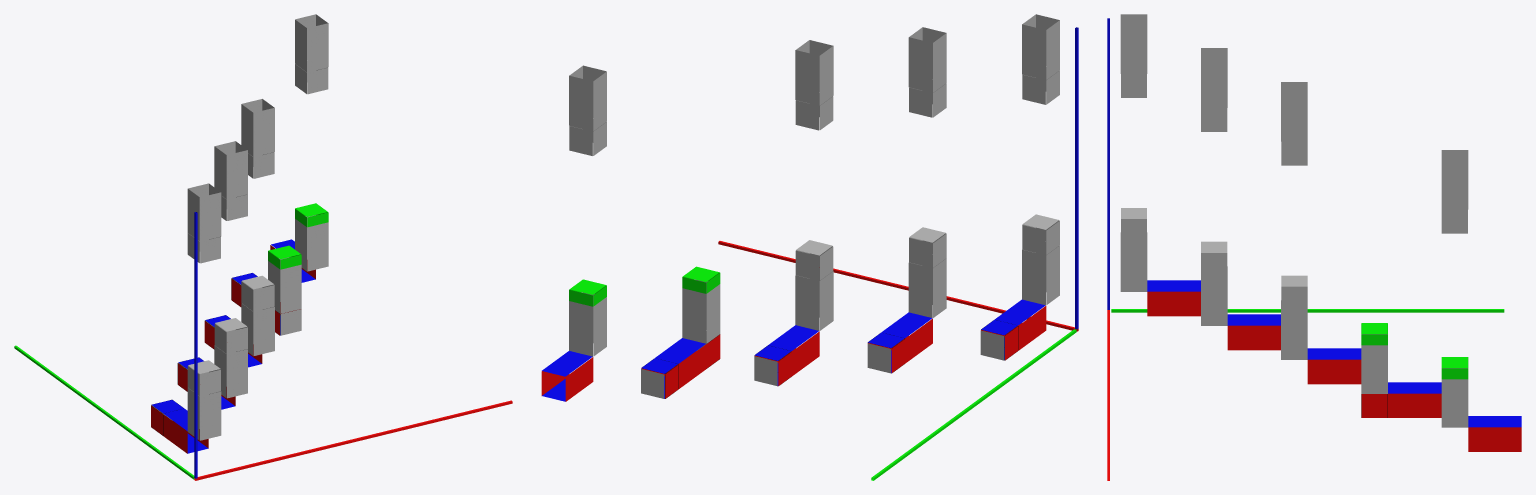
3 views of the same model, side by side, from view 1: azimuth 30°, elevation 25°; view 2: azimuth 150°, elevation 25°; view 3: azimuth 270°, elevation 25° (orthographic). The views are drawn at different scales.
Visible parts, largest first — view 1: edgeK(4, 4, 0):-J, edgeK(0, 0, 0):-J, edgeK(2, 2, 3):-J, edgeK(4, 4, 3):-J, edgeK(3, 3, 0):-J, edgeK(0, 0, 3):-J, edgeK(2, 2, 0):-J, edgeK(1, 1, 0):-J, edgeK(1, 1, 3):-J, axisI:-J, axisK:-J, axisI:+K (+6 smaller); view 2: edgeJ(2, 2, 0):-I (×2), edgeJ(3, 3, 0):-I (×2), edgeJ(0, 0, 0):-I (×2), edgeJ(4, 4, 0):-I (×2), edgeJ(1, 1, 0):-I (×2), edgeJ(1, 1, 3):+J, edgeJ(2, 2, 3):+J, edgeJ(2, 2, 0):+J, edgeJ(3, 3, 0):+J, edgeJ(1, 1, 0):+J, edgeJ(0, 0, 3):+J, edgeJ(4, 4, 3):+J (+27 smaller); view 3: edgeJ(4, 4, 0):+I (×2), edgeJ(0, 0, 0):+I (×2), edgeJ(2, 2, 0):+I (×2), edgeJ(1, 1, 0):+I (×2), edgeJ(3, 3, 0):+I (×2), edgeJ(4, 4, 3):+I, edgeJ(0, 0, 3):+I, edgeJ(1, 1, 3):+I, edgeJ(2, 2, 3):+I, axisK:+I, axisJ:+I, spider(2, 2, 1):+I (+13 smaller).
Boxes of the visible parts, x1,y1,x2,y2 form: edgeK(4, 4, 0):-J: [307, 222, 328, 271]; edgeK(0, 0, 0):-J: [200, 391, 221, 440]; edgeK(2, 2, 3):-J: [253, 107, 274, 156]; edgeK(4, 4, 3):-J: [307, 23, 328, 72]; edgeK(3, 3, 0):-J: [280, 264, 301, 313]; edgeK(0, 0, 3):-J: [200, 192, 221, 241]; edgeK(2, 2, 0):-J: [253, 307, 274, 355]; edgeK(1, 1, 0):-J: [227, 349, 247, 398]; edgeK(1, 1, 3):-J: [227, 150, 247, 199]; axisI:-J: [195, 401, 512, 480]; axisK:-J: [195, 213, 197, 478]; axisI:+K: [197, 400, 511, 477]; edgeJ(2, 2, 0):-I (×2): [792, 271, 833, 376]; edgeJ(3, 3, 0):-I (×2): [679, 284, 720, 388]; edgeJ(0, 0, 0):-I (×2): [1018, 245, 1059, 350]; edgeJ(4, 4, 0):-I (×2): [565, 297, 606, 401]; edgeJ(1, 1, 0):-I (×2): [905, 258, 946, 363]; edgeJ(1, 1, 3):+J: [908, 37, 932, 92]; edgeJ(2, 2, 3):+J: [795, 50, 819, 105]; edgeJ(2, 2, 0):+J: [795, 275, 819, 330]; edgeJ(3, 3, 0):+J: [682, 288, 706, 343]; edgeJ(1, 1, 0):+J: [908, 262, 932, 317]; edgeJ(0, 0, 3):+J: [1022, 24, 1045, 79]; edgeJ(4, 4, 3):+J: [569, 75, 592, 131]; edgeJ(4, 4, 0):+I (×2): [1441, 379, 1521, 451]; edgeJ(0, 0, 0):+I (×2): [1120, 243, 1200, 316]; edgeJ(2, 2, 0):+I (×2): [1281, 311, 1361, 384]; edgeJ(1, 1, 0):+I (×2): [1201, 277, 1280, 350]; edgeJ(3, 3, 0):+I (×2): [1361, 345, 1441, 417]; edgeJ(4, 4, 3):+I: [1441, 161, 1468, 209]; edgeJ(0, 0, 3):+I: [1120, 25, 1147, 73]; edgeJ(1, 1, 3):+I: [1201, 59, 1227, 107]; edgeJ(2, 2, 3):+I: [1281, 93, 1307, 141]; axisK:+I: [1107, 19, 1109, 309]; axisJ:+I: [1111, 310, 1504, 312]; spider(2, 2, 1):+I: [1281, 287, 1307, 311].
Size of the model in its own units: 15 by 12.5 by 15.5.
